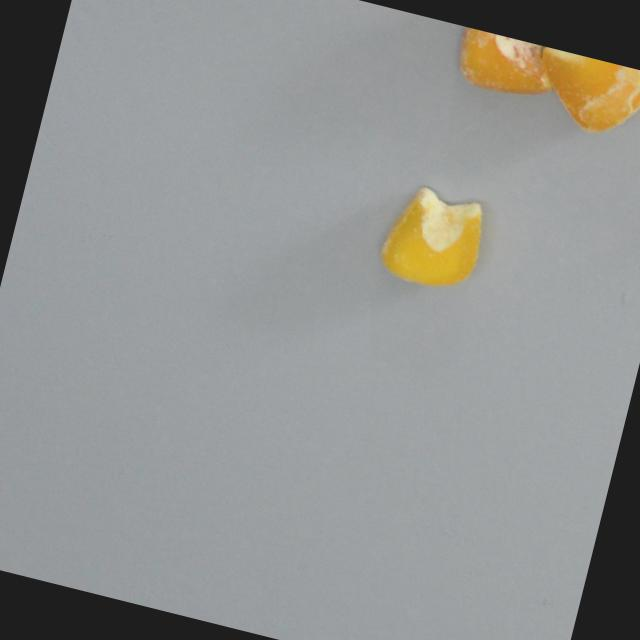pelicula: (374, 180, 492, 298), (525, 46, 640, 145), (447, 25, 564, 110)
